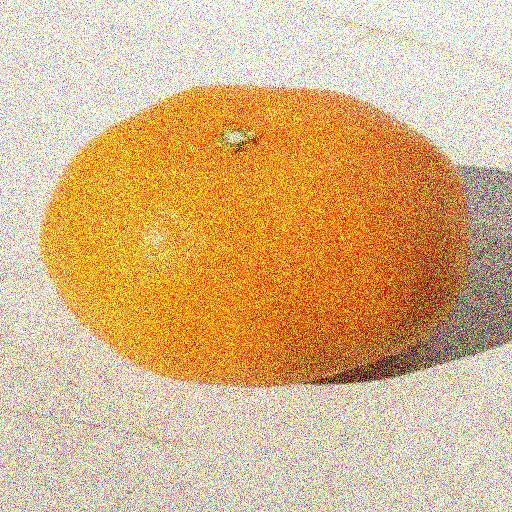fruit: (17, 124, 79, 420)
